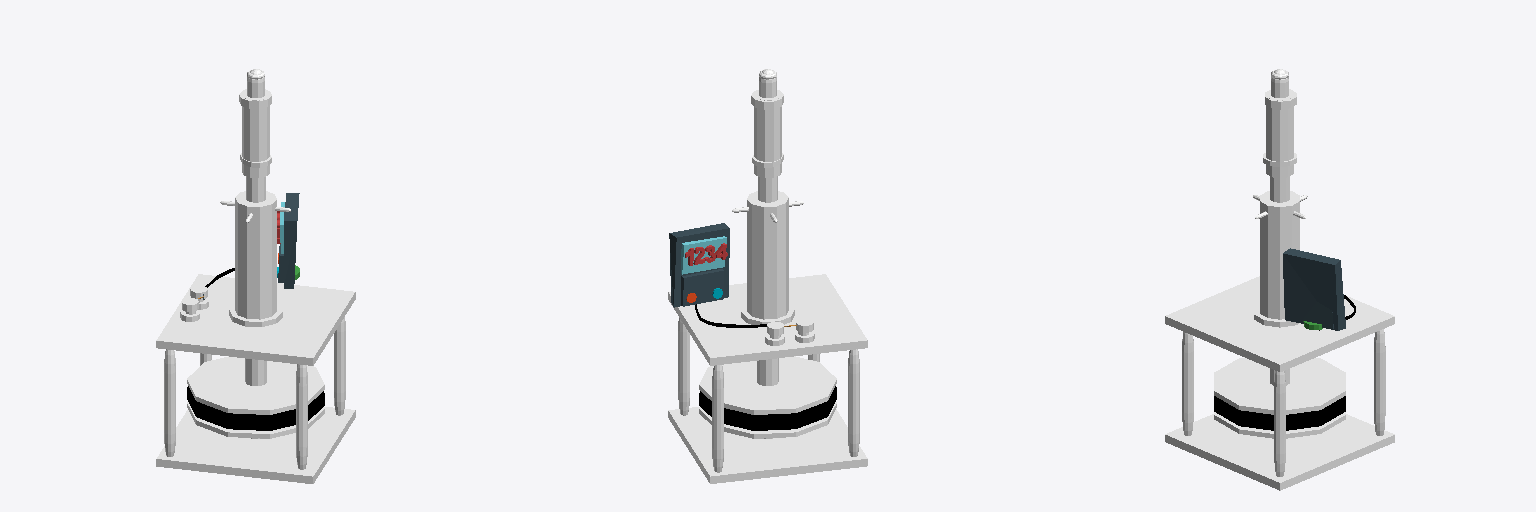
File: First.obj
3 views of the same model, side by side, from view 1: azimuth 30°, elevation 25°; view 2: azimuth 150°, elevation 25°; view 3: azimuth 270°, elevation 25° (orthographic).
Parts seen in each view (by area): view 1: 027_Box_1, 028_Box, 007_Cylinder_1, 025_Tube_1, 008_Cylinder_2, 023_Tube_2, 029_Buffer_Layer, 011_Capsule_7, 010_Capsule_8, 024_Capsule_6, 006_Cylinder, 022_Tube_5; view 2: 027_Box_1, 028_Box, 007_Cylinder_1, 025_Tube_1, 029_Buffer_Layer, 008_Cylinder_2, 023_Tube_2, 011_Capsule_7, 009_Capsule_9, 024_Capsule_6, 006_Cylinder, 030_Buffer_Layer (+1 smaller); view 3: 027_Box_1, 028_Box, 007_Cylinder_1, 029_Buffer_Layer, 025_Tube_1, 008_Cylinder_2, 023_Tube_2, 024_Capsule_6, 009_Capsule_9, 010_Capsule_8, 006_Cylinder.
Boxes of the visible parts, x1,y1,x2,y2 form: 027_Box_1: [156, 274, 355, 365]; 028_Box: [156, 407, 355, 483]; 007_Cylinder_1: [187, 356, 324, 414]; 025_Tube_1: [235, 191, 276, 319]; 008_Cylinder_2: [187, 386, 324, 430]; 023_Tube_2: [242, 90, 269, 177]; 029_Buffer_Layer: [278, 193, 299, 288]; 011_Capsule_7: [164, 349, 175, 456]; 010_Capsule_8: [296, 364, 307, 469]; 024_Capsule_6: [334, 317, 345, 415]; 006_Cylinder: [187, 402, 324, 438]; 022_Tube_5: [245, 358, 266, 385]; 027_Box_1: [668, 274, 867, 365]; 028_Box: [668, 407, 867, 483]; 007_Cylinder_1: [699, 356, 836, 414]; 025_Tube_1: [747, 191, 788, 319]; 029_Buffer_Layer: [669, 223, 729, 307]; 008_Cylinder_2: [699, 386, 836, 430]; 023_Tube_2: [754, 90, 781, 177]; 011_Capsule_7: [848, 349, 859, 456]; 009_Capsule_9: [712, 365, 723, 472]; 024_Capsule_6: [678, 318, 689, 415]; 006_Cylinder: [699, 402, 836, 438]; 030_Buffer_Layer: [681, 236, 726, 274]; 027_Box_1: [1165, 276, 1394, 371]; 028_Box: [1165, 414, 1394, 490]; 007_Cylinder_1: [1214, 357, 1345, 414]; 029_Buffer_Layer: [1283, 248, 1345, 330]; 025_Tube_1: [1260, 191, 1299, 319]; 008_Cylinder_2: [1214, 396, 1345, 430]; 023_Tube_2: [1266, 90, 1293, 177]; 024_Capsule_6: [1274, 371, 1285, 476]; 009_Capsule_9: [1374, 329, 1385, 435]; 010_Capsule_8: [1182, 332, 1193, 435]; 006_Cylinder: [1214, 412, 1345, 438].
Size of the model in its own units: 282 by 505 by 282.